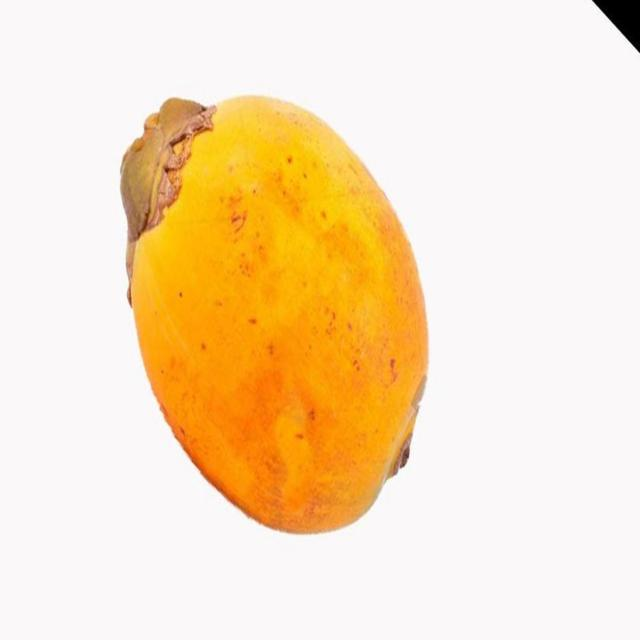good: (119, 95, 430, 538)
